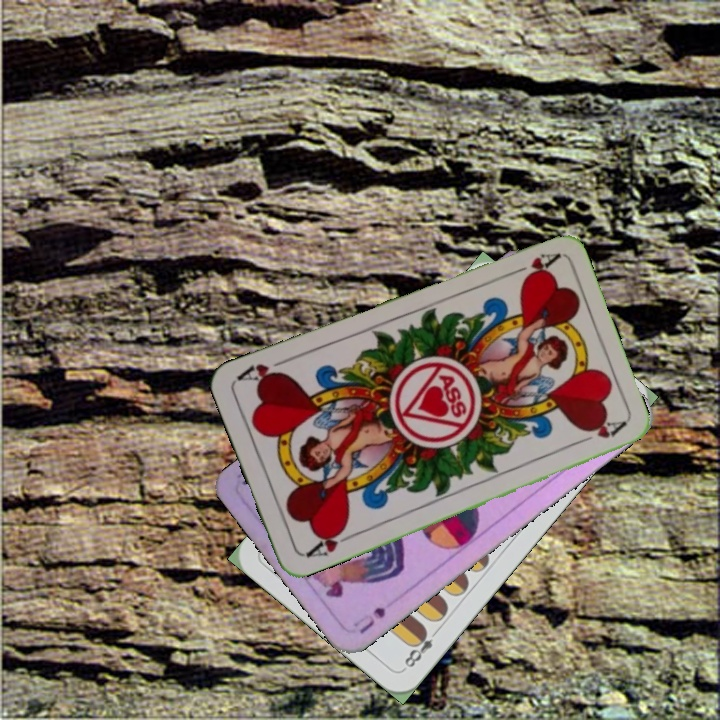E8: (399, 624, 443, 672)
HA: (503, 248, 561, 285), (301, 523, 357, 561)
SU: (349, 603, 389, 637)
